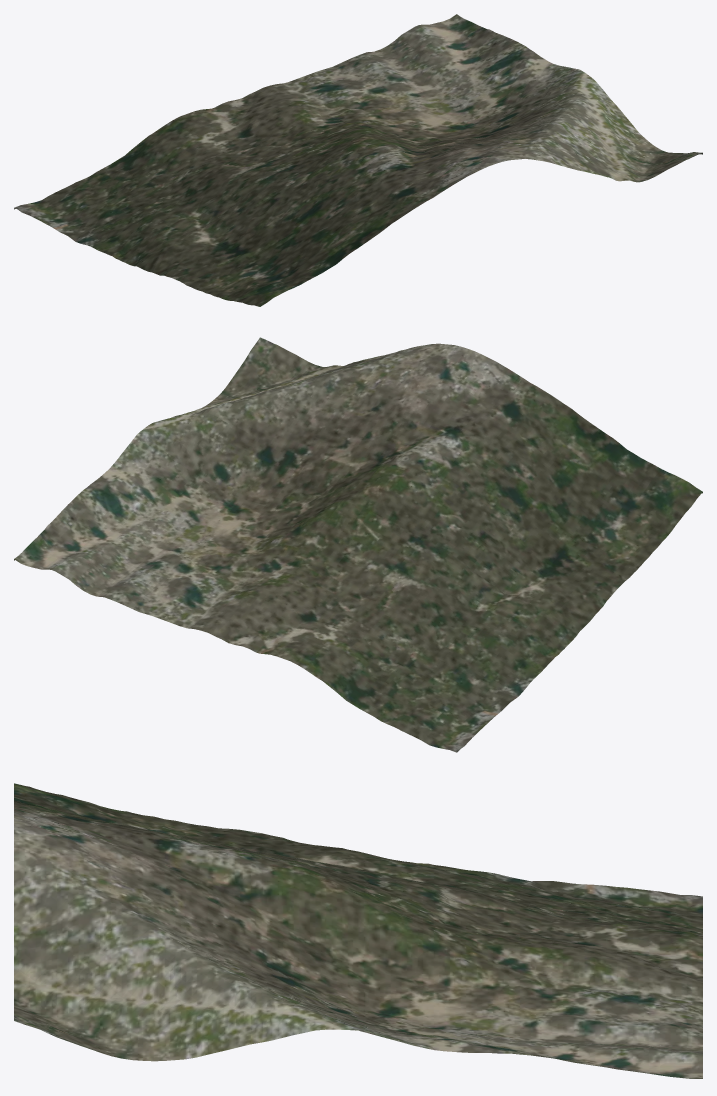
The picture shows the model from 3 angles, top to bottom: view 1: azimuth 30°, elevation 25°; view 2: azimuth 150°, elevation 25°; view 3: azimuth 270°, elevation 25°; orthographic projection. The views are drawn at different scales.
Size of the model in its own units: 250 by 91.06 by 241.
1 material, 1 textured.
